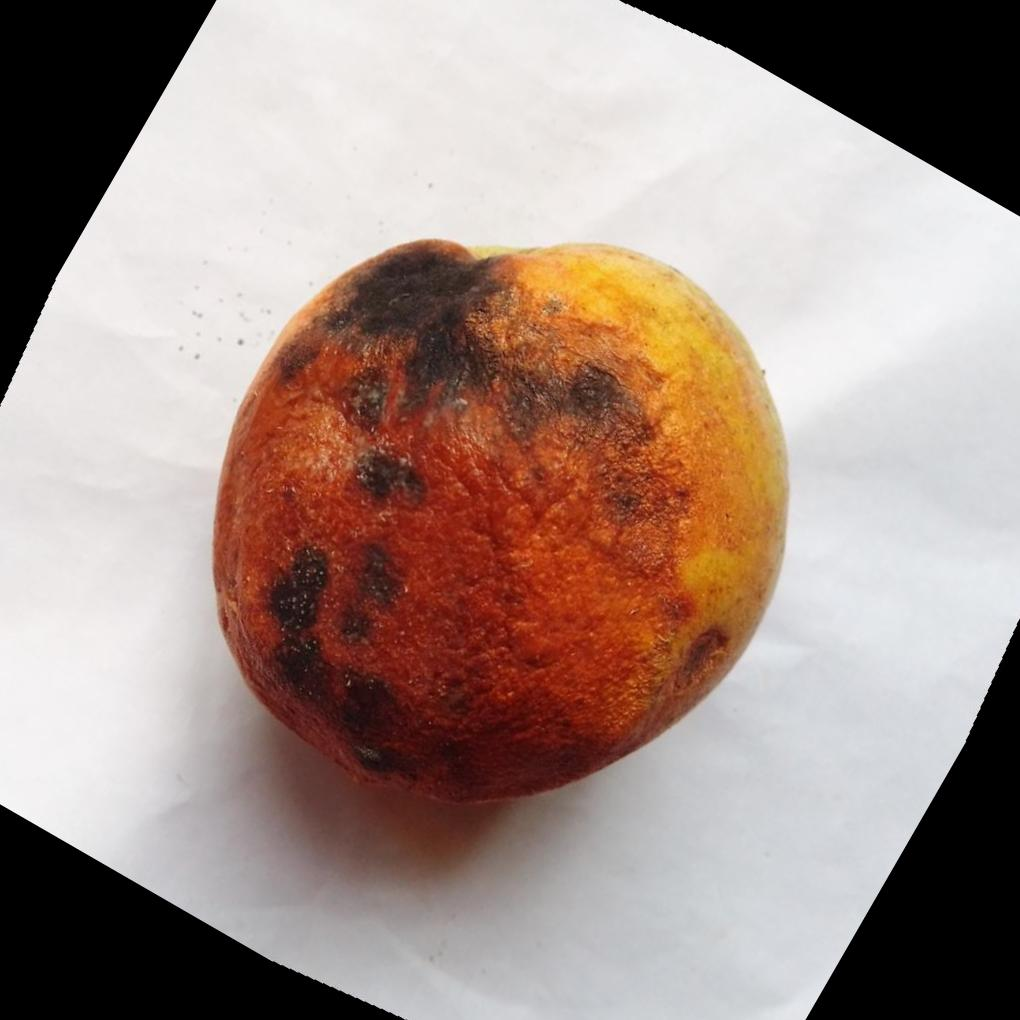FreshOrange: (211, 238, 794, 808)
